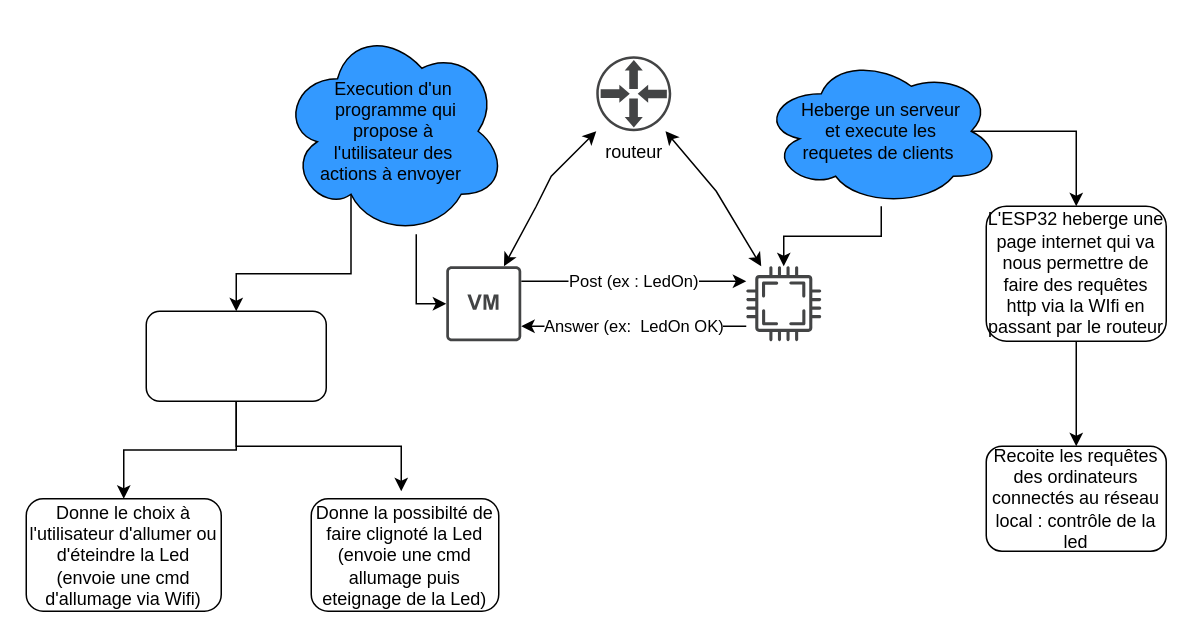
Some shapes in this 1193 by 638 pixel diagram are drawn without their labels. The box of each missing label's shape, as (x1, y1, x2, y2) in pixels:
Creation d'un procéssus père qui va créer une action en fonction du choix: (145, 310, 326, 401)
ESP32 (SERVER): (746, 266, 820, 340)
LINUX: (446, 266, 520, 340)
